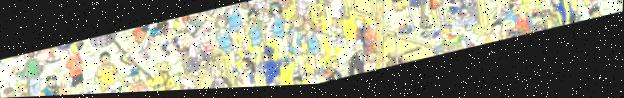waldo: (196, 25, 214, 45)
